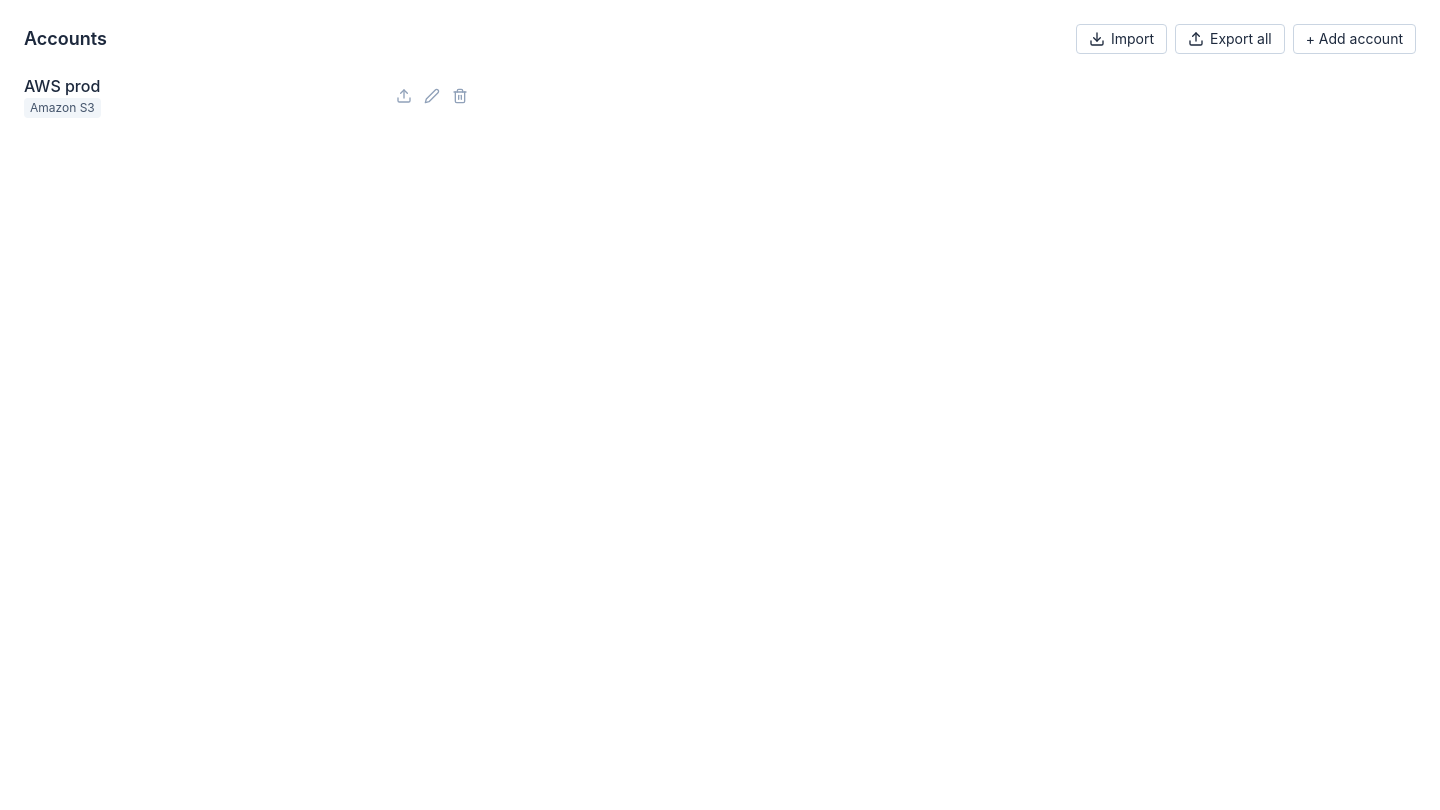
ConnectionsScreen › opens the import dialog from the header
The width and height of the screenshot is (1440, 810).
Click the button "Import": (1121, 39) [1076,24,1167,54]
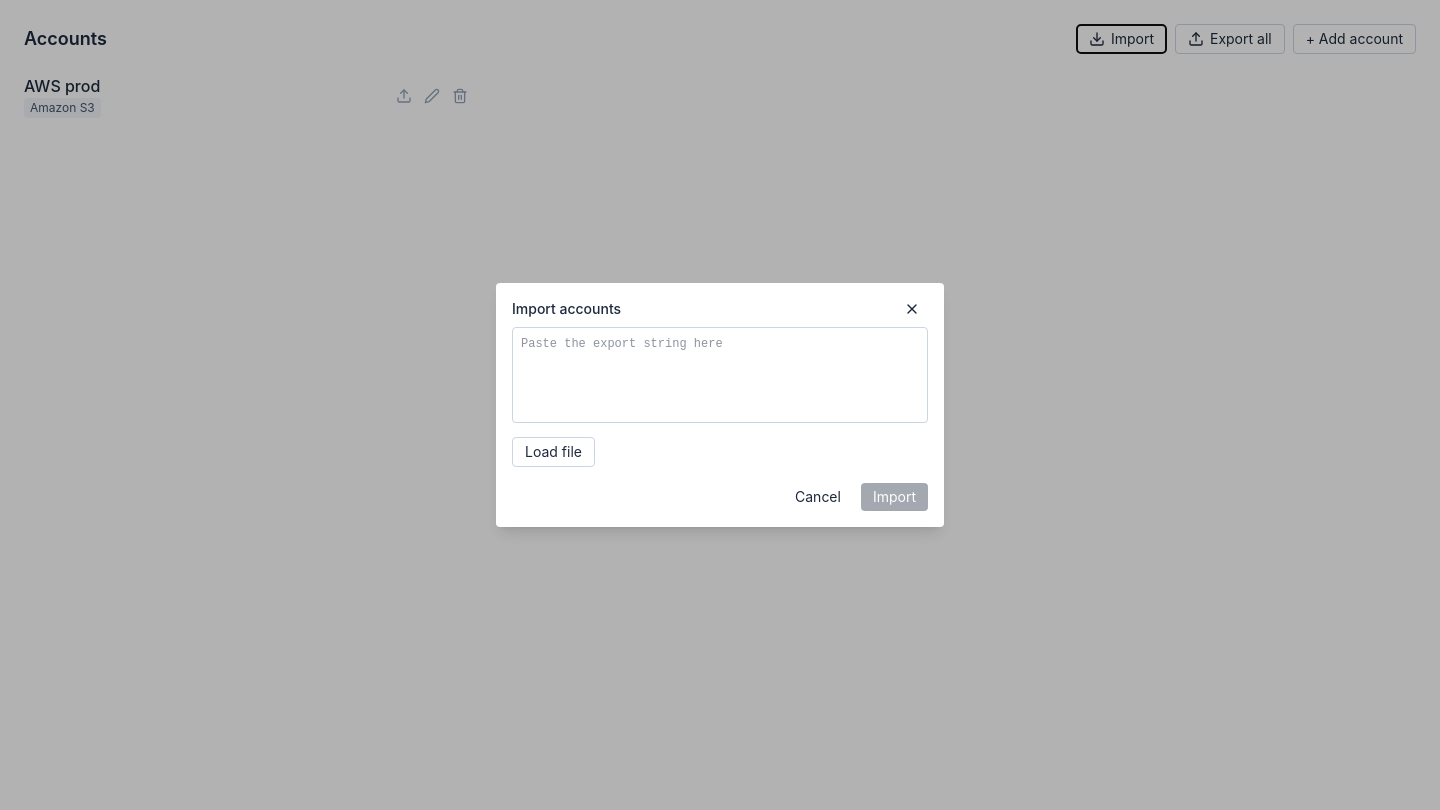
Result: the text "Import accounts" is shown at [512,299,621,319]
